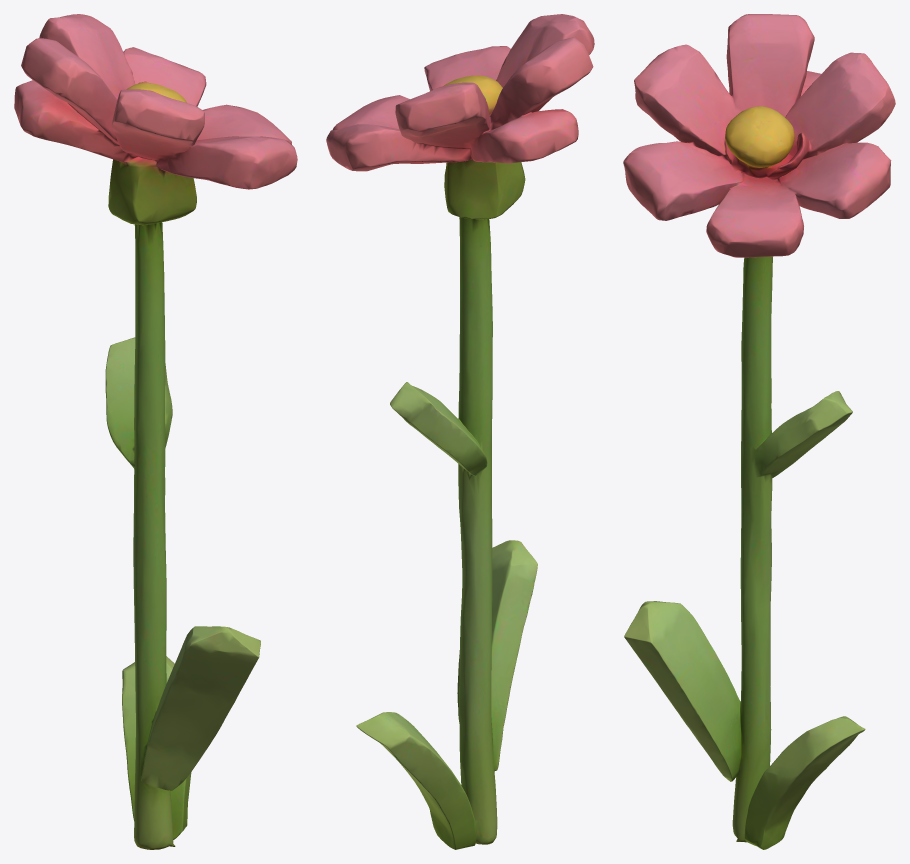
The picture shows the model from 3 angles, left to right: view 1: azimuth 30°, elevation 25°; view 2: azimuth 150°, elevation 25°; view 3: azimuth 270°, elevation 25°; orthographic projection. The views are drawn at different scales.
Parts seen in each view (by area): view 1: tripo_node_d613c0b4-6b84-48cc-b6c3-e1159dbbb72f; view 2: tripo_node_d613c0b4-6b84-48cc-b6c3-e1159dbbb72f; view 3: tripo_node_d613c0b4-6b84-48cc-b6c3-e1159dbbb72f.
Part boxes in pixels (<box>): tripo_node_d613c0b4-6b84-48cc-b6c3-e1159dbbb72f: <box>14,14,297,849</box>; tripo_node_d613c0b4-6b84-48cc-b6c3-e1159dbbb72f: <box>326,14,594,849</box>; tripo_node_d613c0b4-6b84-48cc-b6c3-e1159dbbb72f: <box>623,14,895,849</box>.
Bounding box in the file's own units: 0.0778 × 0.25 × 0.0793.
1 material, 1 textured.
